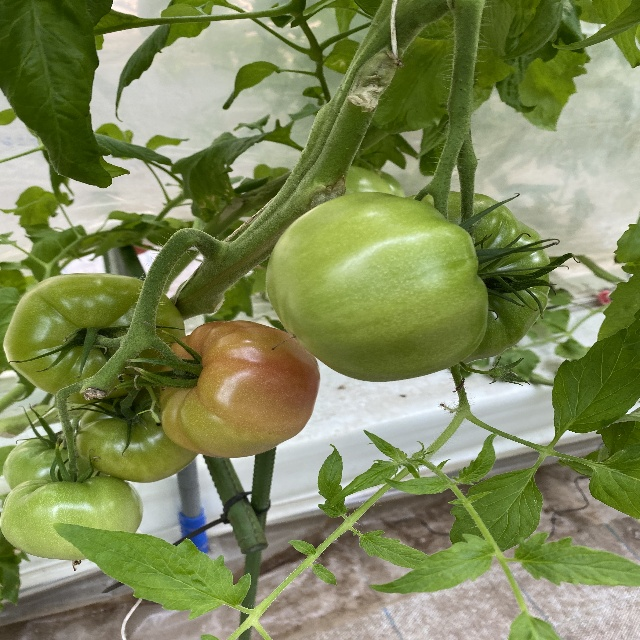b_green: (265, 191, 490, 382), (407, 189, 551, 367), (3, 272, 187, 403), (1, 476, 144, 561), (76, 385, 199, 483), (3, 433, 114, 490)
b_half_ripened: (158, 319, 319, 458)
